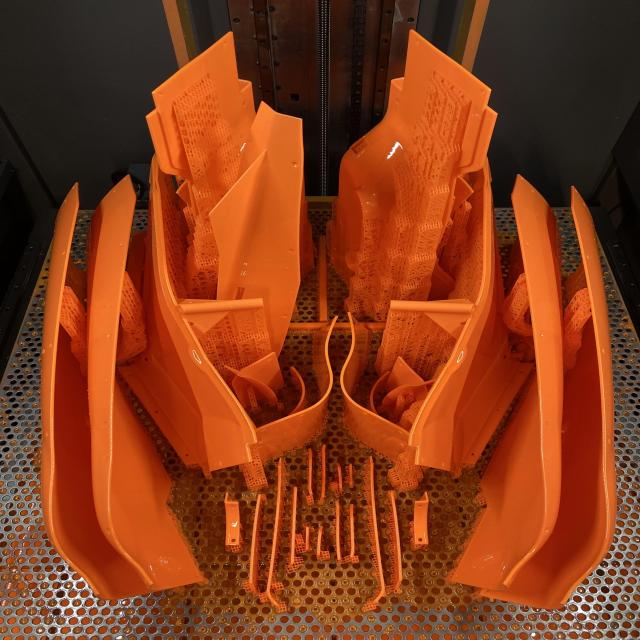Without deffect: (27, 16, 635, 613)
